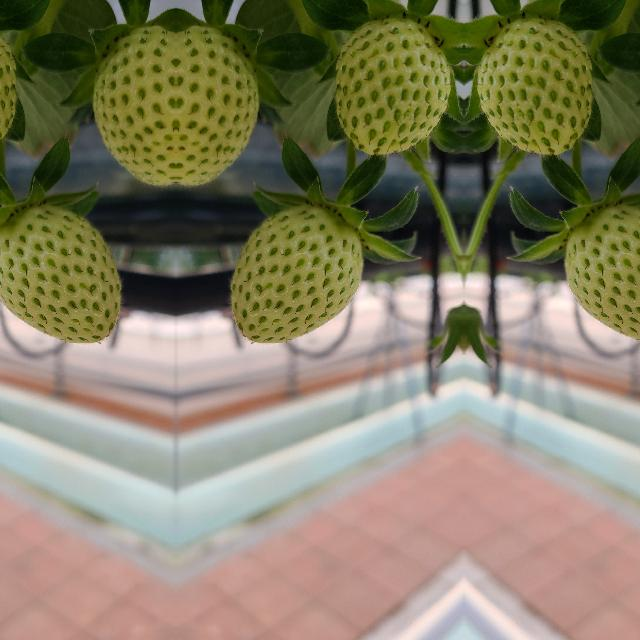Health_25: (229, 206, 361, 344), (328, 15, 454, 156), (472, 15, 598, 156), (0, 206, 121, 344), (175, 20, 265, 188), (85, 20, 175, 188), (565, 206, 640, 344)
